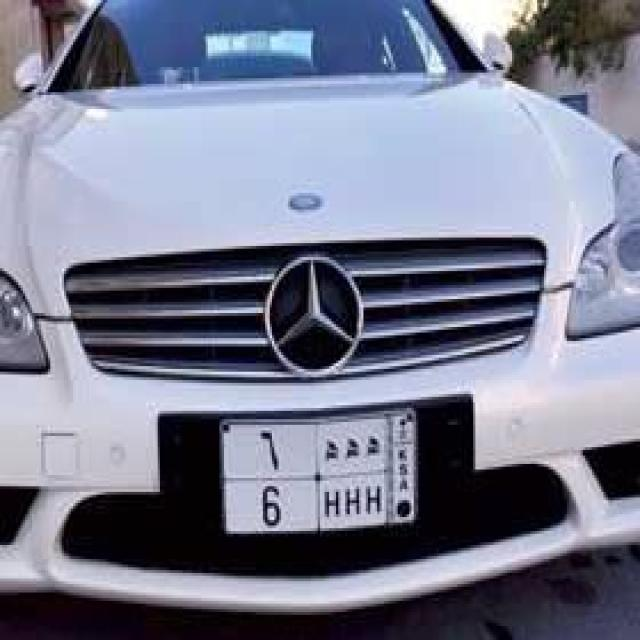license_plate: (217, 406, 423, 540)
